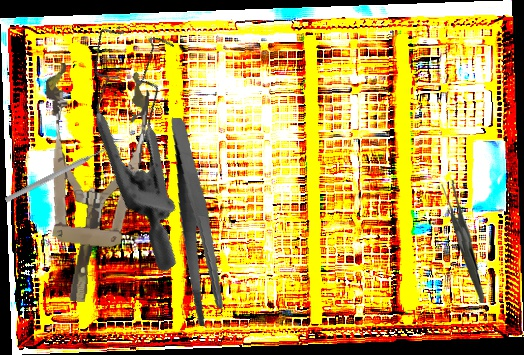Dressing Forceps: (150, 117, 242, 328), (437, 179, 489, 304)
Pusher: (3, 141, 116, 205)
Speculum: (16, 1, 283, 274), (23, 61, 153, 307)
